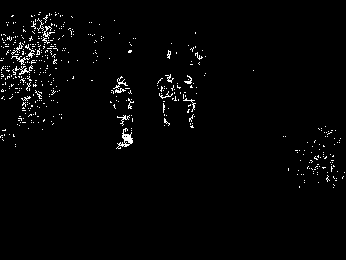person: (108, 74, 138, 151), (156, 71, 176, 126), (182, 73, 202, 128)
